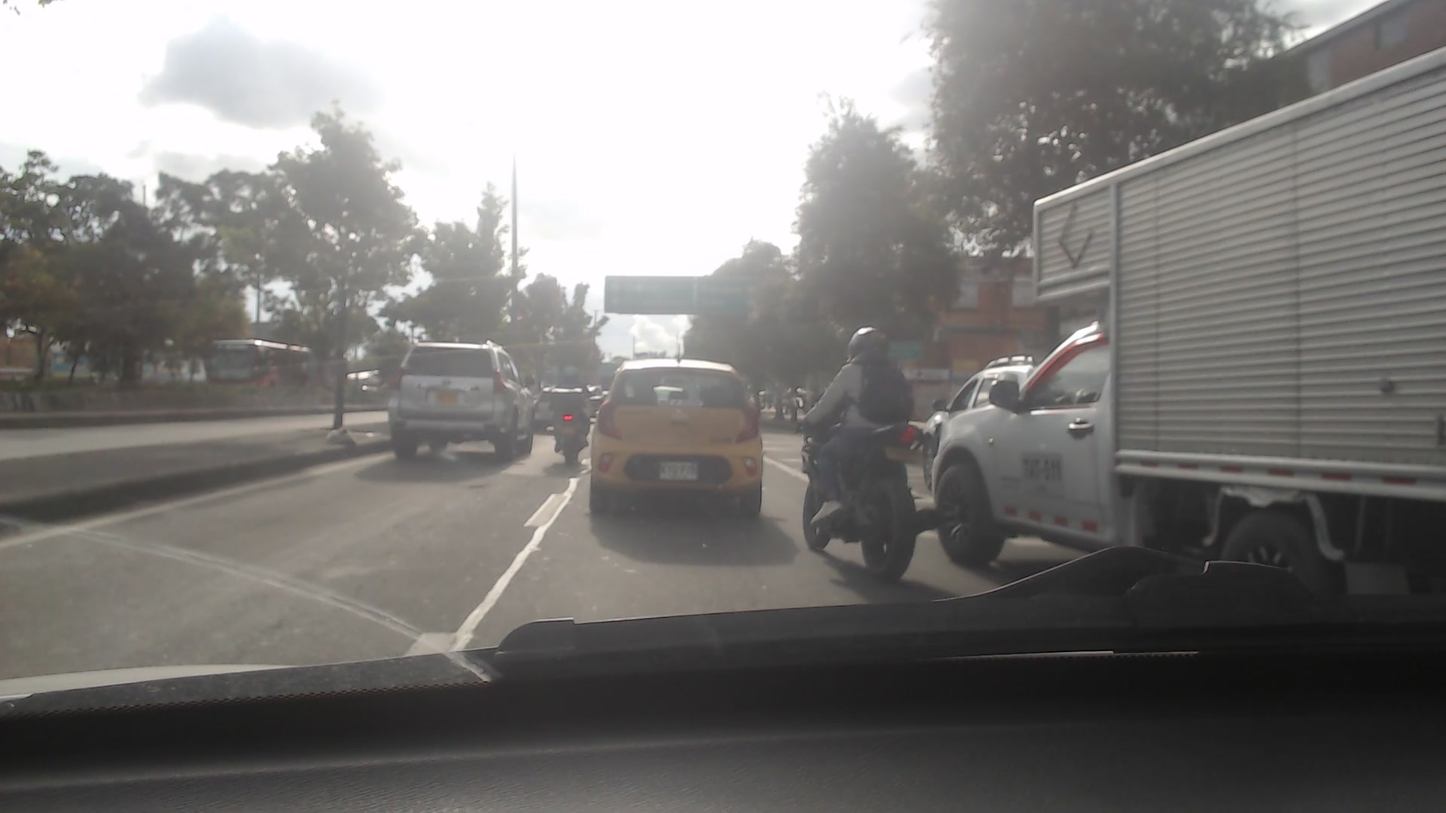car: (596, 359, 767, 515), (382, 343, 537, 460)
motorcycle: (782, 401, 921, 589), (550, 407, 588, 462)
person: (795, 309, 903, 526), (553, 360, 590, 441)
truck: (922, 51, 1446, 607)
